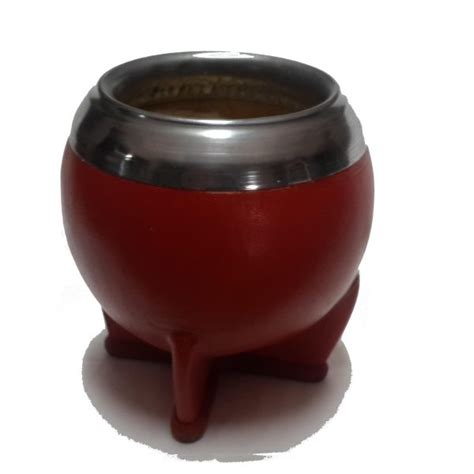cuero: (57, 140, 379, 448)
